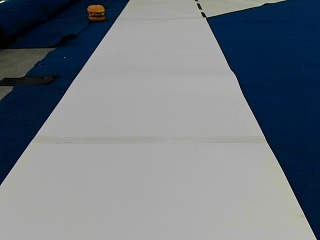burger: (87, 3, 106, 21)
